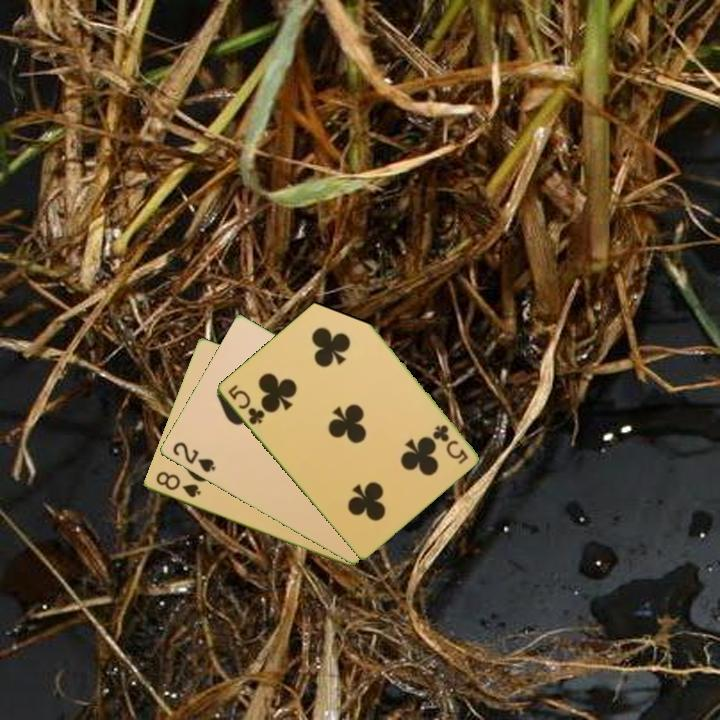2s: (169, 438, 218, 475)
5c: (224, 381, 267, 428), (430, 421, 471, 467)
8s: (152, 468, 203, 501)
